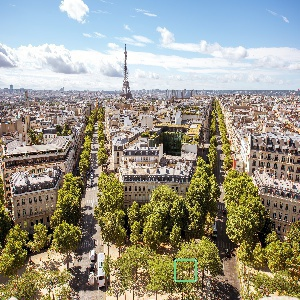square: (173, 257, 198, 283)
